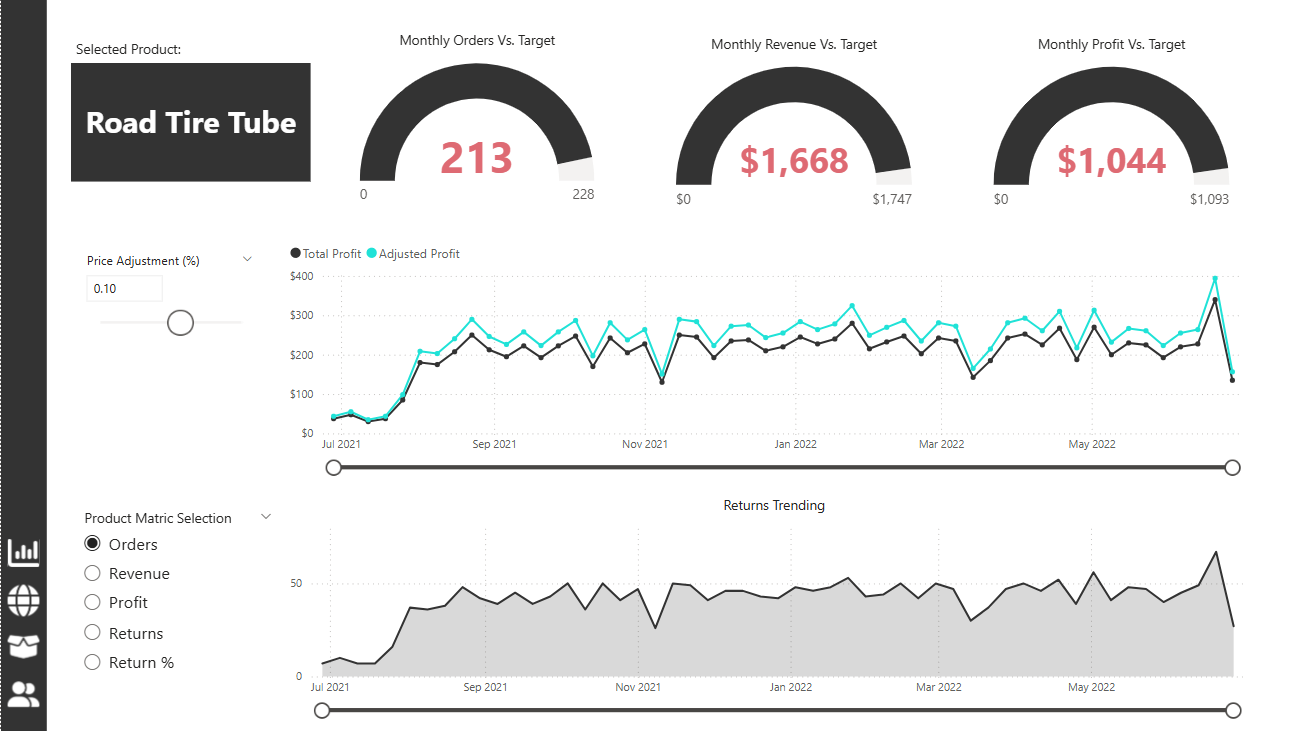

The dashboard page shown, as its layout file describes it:
{"tool":"powerbi","page":{"name":"Product Detail","canvas":[1280,720],"ordinal":2},"visuals":[{"type":"shape","box":[0,0,45,720],"z":0},{"type":"actionButton","box":[1.8,523.4,45.2,39.1],"z":0,"group":"g1"},{"type":"gauge","title":"Monthly Orders Vs. Target","fields":{"Y":["Measures Table.Total Orders"],"MaxValue":["Measures Table.Order Target"]},"box":[345.6,31.8,239.7,189.5],"z":1000},{"type":"actionButton","box":[1.8,569.5,45.2,39.1],"z":1000,"group":"g1"},{"type":"gauge","title":"Monthly Revenue Vs. Target","fields":{"Y":["Measures Table.Total Revenue"],"MaxValue":["Measures Table.Revenue Target"]},"box":[655.2,35.2,240.9,189.5],"z":2000},{"type":"actionButton","box":[1.8,661.6,45.2,39.1],"z":2000,"group":"g1"},{"type":"gauge","title":"Monthly Profit Vs. Target","fields":{"Y":["Measures Table.Total Profit"],"MaxValue":["Measures Table.Profit Target"]},"box":[966,35.5,240.9,189.5],"z":3000},{"type":"actionButton","box":[1.8,615.5,45.2,39.1],"z":3000,"group":"g1"},{"type":"lineChart","title":"Profit Trending","fields":{"Category":["Calendar Lookup.Date Hierarchy.Start of Year","Calendar Lookup.Date Hierarchy.Start of Month","Calendar Lookup.Date Hierarchy.Date","Calendar Lookup.Date Hierarchy.Start of Week"],"Y":["Measures Table.Total Profit","Measures Table.Adjusted Profit"]},"box":[277.5,229.8,956.2,240.2],"z":4000},{"type":"areaChart","title":"Returns Trending","fields":{"Y":["Measures Table.Total Orders"],"Category":["Calendar Lookup.Date Hierarchy.Start of Year","Calendar Lookup.Date Hierarchy.Start of Month","Calendar Lookup.Date Hierarchy.Date","Calendar Lookup.Date Hierarchy.Start of Week"]},"box":[277.5,486.2,957.5,221.2],"z":5000},{"type":"card","fields":{"Values":["Min(Product Lookup.ProductName)"]},"box":[68.5,63.2,234.8,116.2],"z":6000},{"type":"textbox","box":[68.5,34.9,133.3,29.3],"z":7000},{"type":"group","id":"g1","title":"Navigation Buttons","box":[1.8,523.4,45.2,177.3],"z":8000},{"type":"slicer","fields":{"Values":["Price Adjustment (%).Price Adjustment (%)"]},"box":[71.2,243.8,187.5,108.8],"z":9000},{"type":"slicer","fields":{"Values":["Product Matric Selection.Product Matric Selection"]},"box":[68.8,493.8,208.8,190],"z":10000}]}

Visuals, with their boxes on the page's 1280x720 design canvas (x1, y1, x2, y2). These are canvas units, not pixel positions in the 1308x731 screenshot, which may show the page scaled, cropped or inside an application window:
shape: bbox=(0, 0, 45, 720)
actionButton: bbox=(2, 523, 47, 562)
"Monthly Orders Vs. Target" gauge: bbox=(346, 32, 585, 221)
actionButton: bbox=(2, 570, 47, 609)
"Monthly Revenue Vs. Target" gauge: bbox=(655, 35, 896, 225)
actionButton: bbox=(2, 662, 47, 701)
"Monthly Profit Vs. Target" gauge: bbox=(966, 36, 1207, 225)
actionButton: bbox=(2, 616, 47, 655)
"Profit Trending" lineChart: bbox=(278, 230, 1234, 470)
"Returns Trending" areaChart: bbox=(278, 486, 1235, 707)
card - Min(Product Lookup.ProductName): bbox=(68, 63, 303, 179)
textbox: bbox=(68, 35, 202, 64)
"Navigation Buttons" group: bbox=(2, 523, 47, 701)
slicer - Price Adjustment (%).Price Adjustment (%): bbox=(71, 244, 259, 353)
slicer - Product Matric Selection.Product Matric Selection: bbox=(69, 494, 278, 684)
